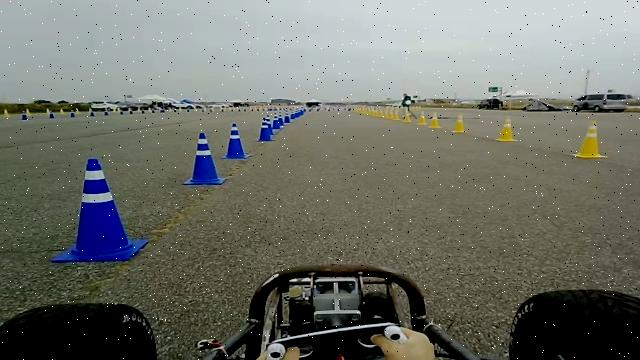blue cone: (50, 157, 148, 263), (183, 132, 226, 185), (220, 122, 251, 159), (256, 116, 274, 142)
yellow cone: (570, 120, 608, 158), (494, 115, 518, 142), (450, 112, 468, 133), (427, 112, 441, 128), (416, 111, 426, 125), (402, 113, 411, 123)
